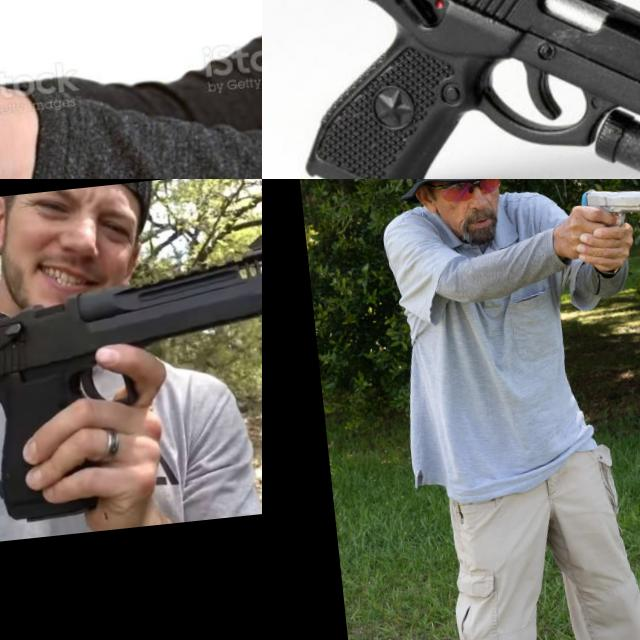handgun: (0, 230, 262, 529), (272, 0, 640, 179), (0, 0, 86, 151), (578, 179, 640, 238)
